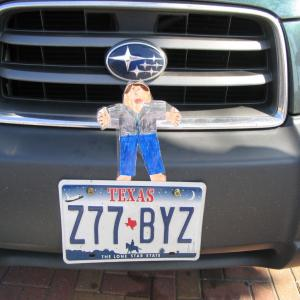Vehicle-registration-plate: (59, 178, 209, 273)
